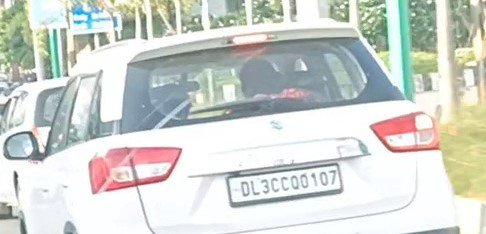DL3CCQ0107: (228, 164, 341, 201)
